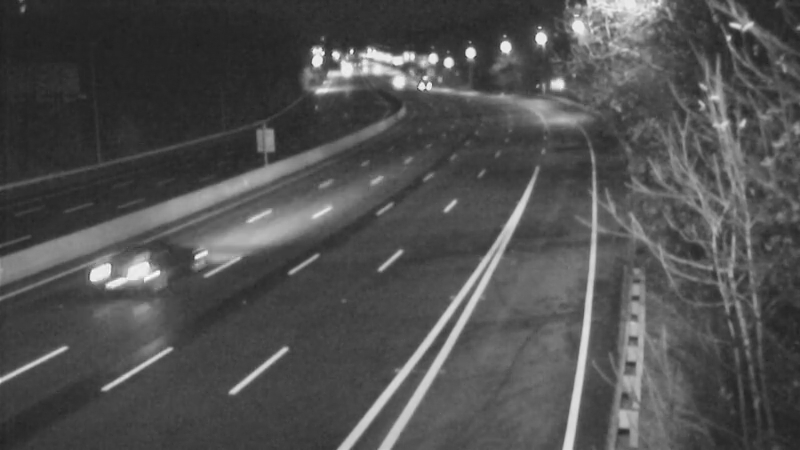vehicle: (96, 225, 176, 305), (371, 55, 421, 105), (397, 60, 447, 110)
